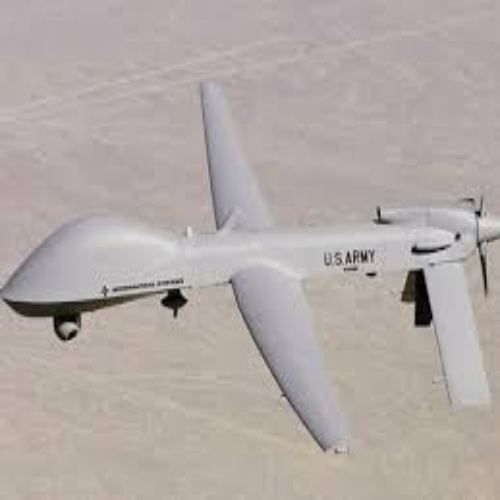uav371: (4, 81, 498, 458)
